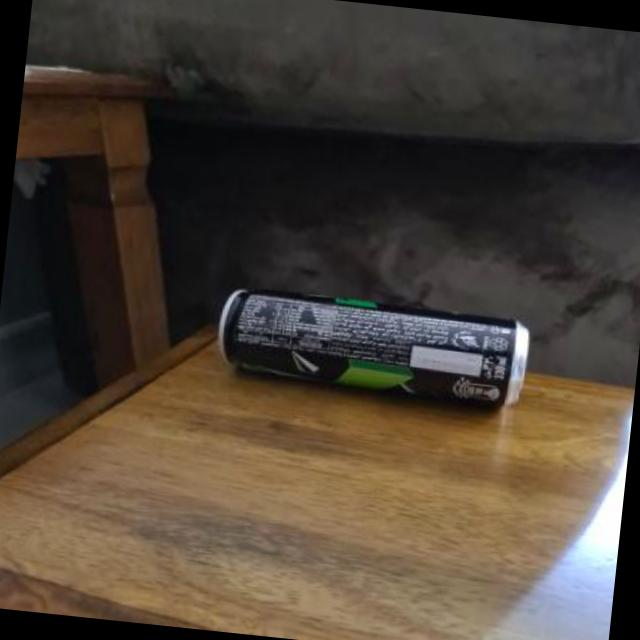metal: (217, 286, 525, 402)
